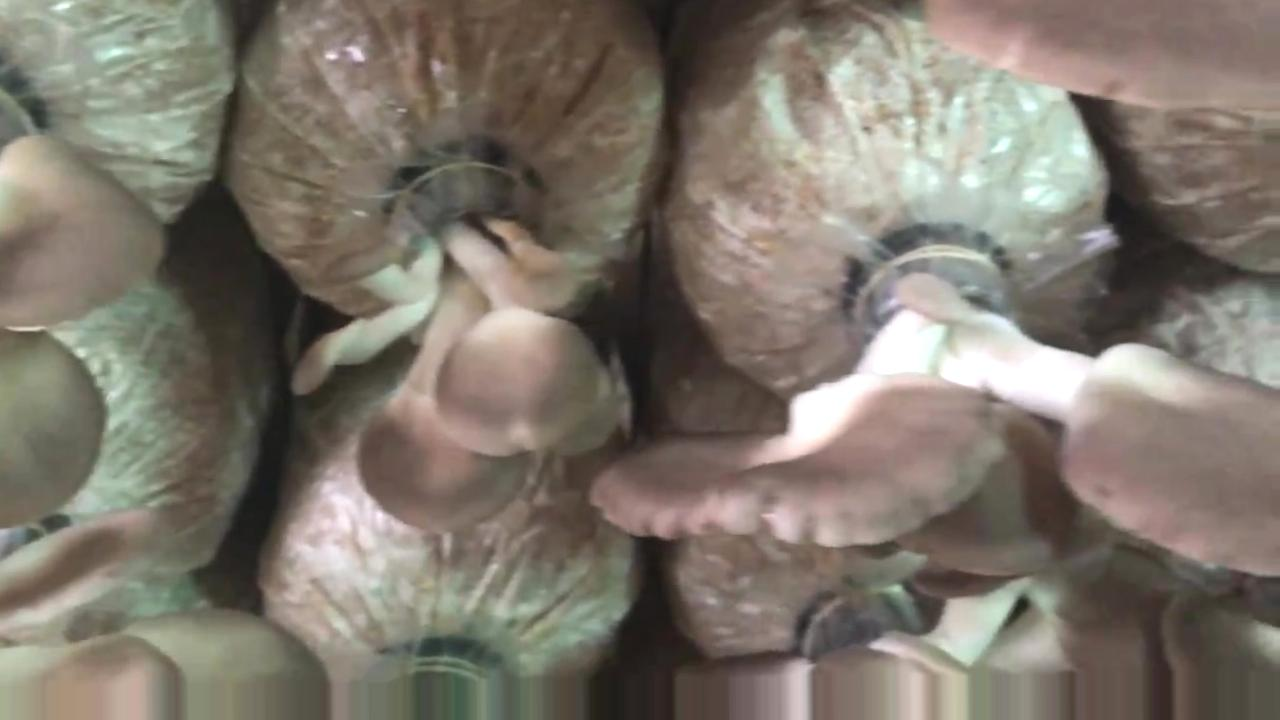nam: (602, 228, 1280, 579), (284, 146, 627, 542), (1, 95, 164, 520), (931, 3, 1280, 125)
